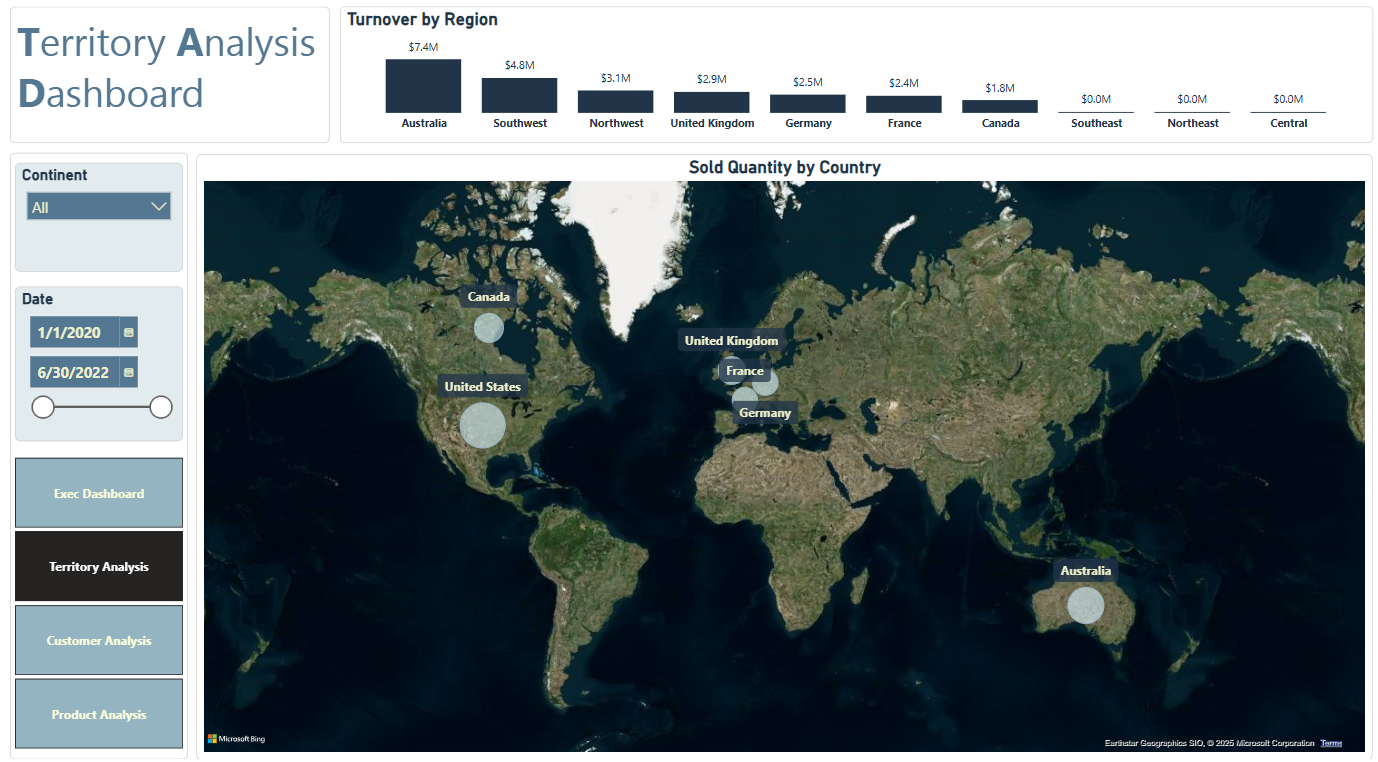

The dashboard page shown, as its layout file describes it:
{"tool":"powerbi","page":{"name":"Territory Analysis","canvas":[1522,850],"ordinal":1},"visuals":[{"type":"textbox","box":[11.5,8.7,352.2,150.1],"z":0,"group":"g1"},{"type":"map","title":"Sold Quantity by Country","fields":{"Category":["Territory Lookup.Country"],"Size":["_Measure.Quantity Sold"]},"box":[216.5,170.3,1294.9,667],"z":0},{"type":"columnChart","fields":{"Category":["Territory Lookup.Region"],"Y":["_Measure.Turnover"]},"box":[373.9,8.7,1137.6,150.1],"z":1000},{"type":"textbox","box":[11.5,170.4,196.3,668.4],"z":1000,"group":"g1"},{"type":"group","id":"g1","title":"Slicer Pane","box":[11.5,8.7,352.2,830.1],"z":2000},{"type":"slicer","title":"Continent","fields":{"Values":["Territory Lookup.Continent"]},"box":[17.3,180.5,185,119.8],"z":2000,"group":"g1"},{"type":"image","box":[233.9,40.4,129.9,140],"z":3000},{"type":"slicer","title":"Date","fields":{"Values":["Date Lookup.Date"]},"box":[17.3,317.6,185,170.3],"z":3000,"group":"g1"},{"type":"pageNavigator","box":[17.3,505.3,185,320.5],"z":4000,"group":"g1"}]}

Visuals, with their boxes in screenshot pixels (x1, y1, x2, y2), scaled from the page's 1522x850 canvas onto the 1378x762 screenshot:
textbox: pyautogui.locateOnScreen(10, 8, 329, 142)
"Sold Quantity by Country" map: pyautogui.locateOnScreen(196, 153, 1368, 751)
columnChart - Territory Lookup.Region x _Measure.Turnover: pyautogui.locateOnScreen(339, 8, 1368, 142)
textbox: pyautogui.locateOnScreen(10, 153, 188, 752)
"Slicer Pane" group: pyautogui.locateOnScreen(10, 8, 329, 752)
"Continent" slicer: pyautogui.locateOnScreen(16, 162, 183, 269)
image: pyautogui.locateOnScreen(212, 36, 329, 162)
"Date" slicer: pyautogui.locateOnScreen(16, 285, 183, 437)
pageNavigator: pyautogui.locateOnScreen(16, 453, 183, 740)
